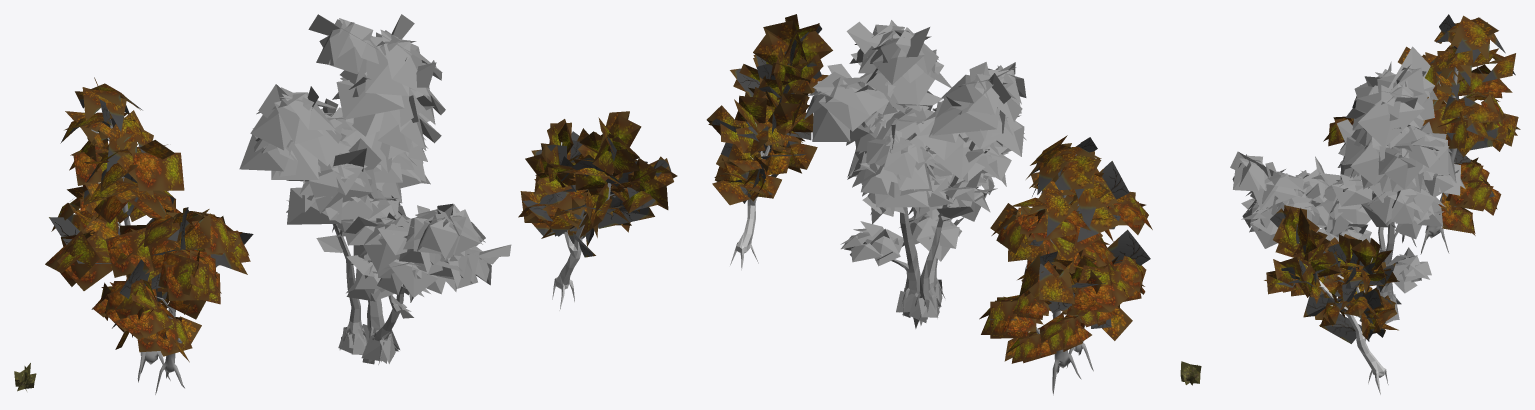
File: tree.FBX
3 views of the same model, side by side, from view 1: azimuth 30°, elevation 25°; view 2: azimuth 150°, elevation 25°; view 3: azimuth 270°, elevation 25° (orthographic). The views are drawn at different scales.
Visible parts, largest first — view 1: UnrealEdObject0011, UnrealEdObject0012, UnrealEdObject, Object003, Object002; view 2: UnrealEdObject0011, UnrealEdObject0012, UnrealEdObject, Object002, Object003; view 3: UnrealEdObject0011, UnrealEdObject0012, UnrealEdObject, Object002, Object003.
Boxes of the visible parts, x1=… form: UnrealEdObject0011: x1=239, y1=14, x2=511, y2=364; UnrealEdObject0012: x1=45, y1=77, x2=253, y2=362; UnrealEdObject: x1=518, y1=111, x2=677, y2=257; Object003: x1=91, y1=110, x2=197, y2=394; Object002: x1=552, y1=142, x2=621, y2=310; UnrealEdObject0011: x1=804, y1=20, x2=1026, y2=328; UnrealEdObject0012: x1=979, y1=135, x2=1152, y2=363; UnrealEdObject: x1=706, y1=14, x2=832, y2=205; Object002: x1=730, y1=122, x2=770, y2=270; Object003: x1=1036, y1=154, x2=1093, y2=395; UnrealEdObject0011: x1=1230, y1=46, x2=1465, y2=323; UnrealEdObject0012: x1=1323, y1=14, x2=1520, y2=235; UnrealEdObject: x1=1264, y1=205, x2=1399, y2=343; Object002: x1=1299, y1=242, x2=1388, y2=394; Object003: x1=1394, y1=67, x2=1458, y2=254.
Size of the model in its own units: 3293 by 1864 by 1834.
